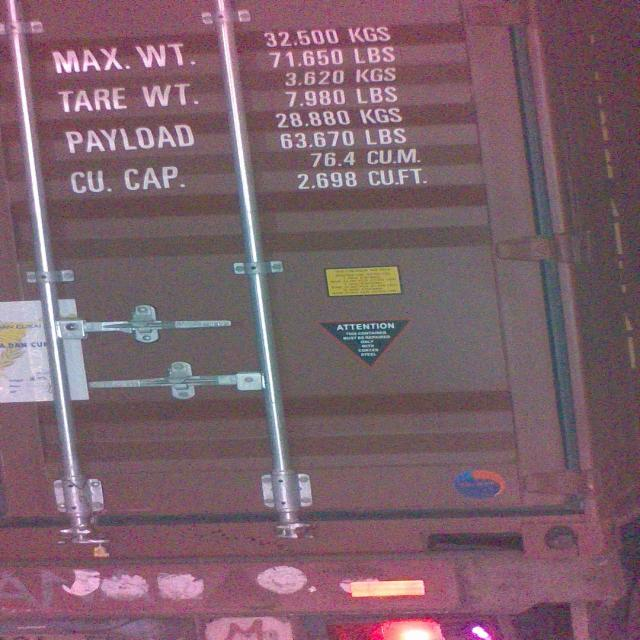seal: (74, 532, 119, 566)
